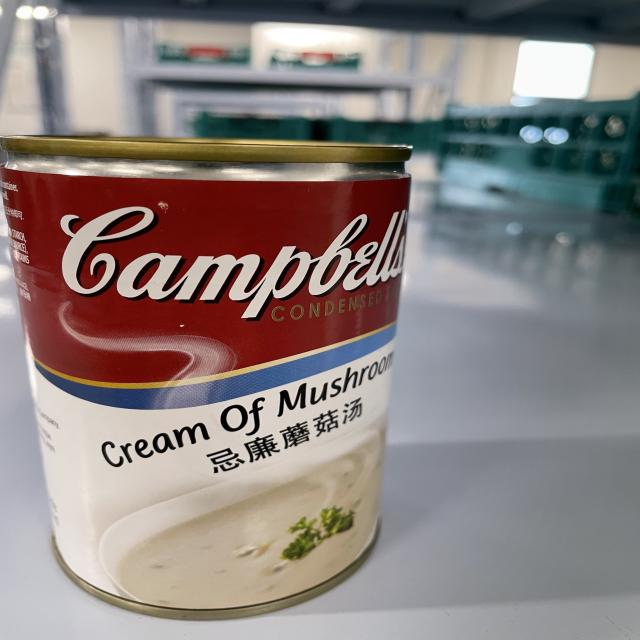object_name: (25, 138, 400, 610)
